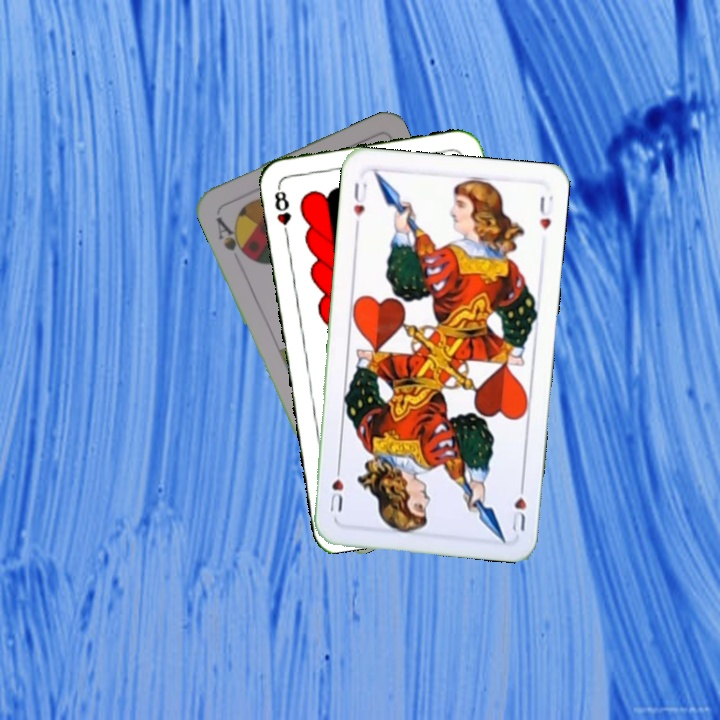H8: (270, 181, 294, 240)
HU: (508, 477, 529, 534), (349, 178, 370, 231)
SA: (212, 208, 251, 260)
